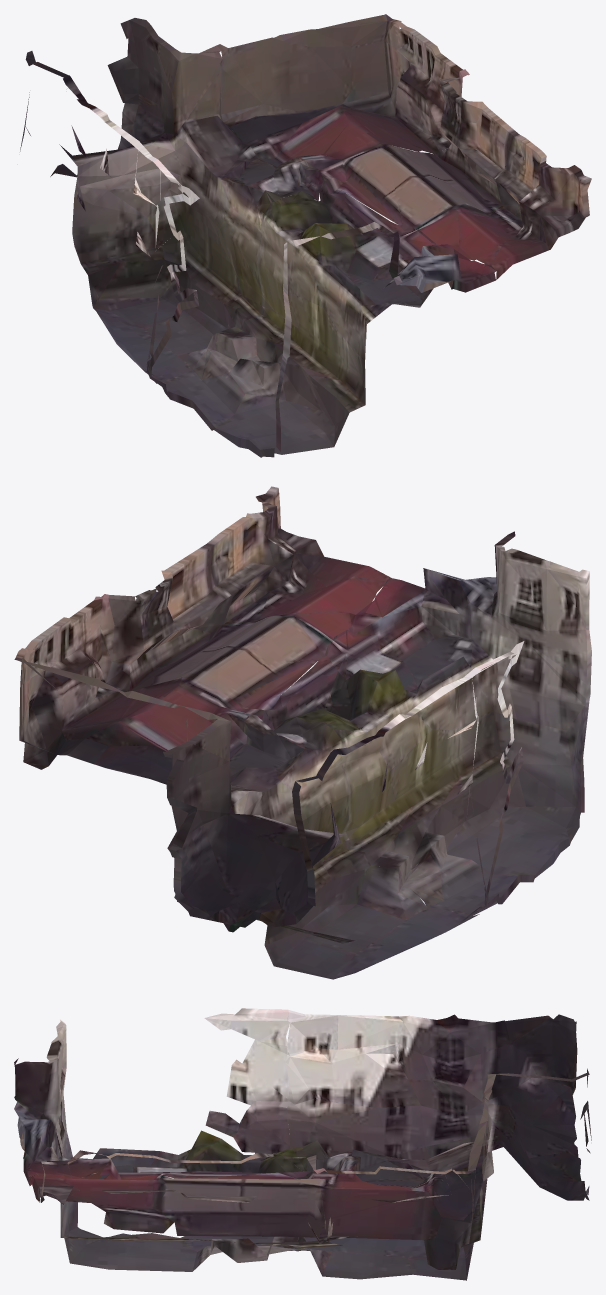
3 views of the same model, one above another, from view 1: azimuth 30°, elevation 25°; view 2: azimuth 150°, elevation 25°; view 3: azimuth 270°, elevation 25° (orthographic). The views are drawn at different scales.
Visible parts, largest first — view 1: Mesh_0; view 2: Mesh_0; view 3: Mesh_0.
Boxes of the visible parts, bbox=[...] form: Mesh_0: bbox=[20, 14, 591, 457]; Mesh_0: bbox=[14, 486, 591, 979]; Mesh_0: bbox=[14, 1008, 591, 1280].
Bounding box in the file's own units: 26.17 × 17.49 × 38.95.
Materials: 1 (1 with a texture image).
